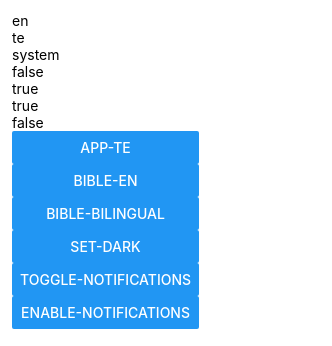
Scenario: the two language preferences are independent › changing the Bible mode leaves the app language where it was
Expected: the text with test id "isLoaded" reads "true", [12,97,38,114]
Click the button with test id "set-bible-mode-en".
click(106, 180)  # box [12,164,199,197]
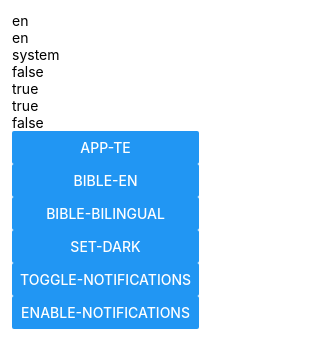
Expected: the text with test id "appLanguage" reads "en", [12,12,28,29]
Result: the text with test id "bibleMode" reads "en" at [12,29,28,46]
